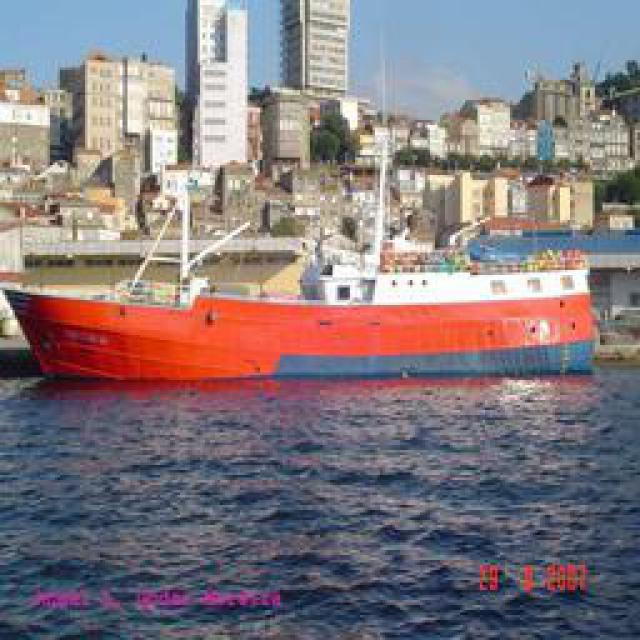Ship: (5, 122, 610, 390)
